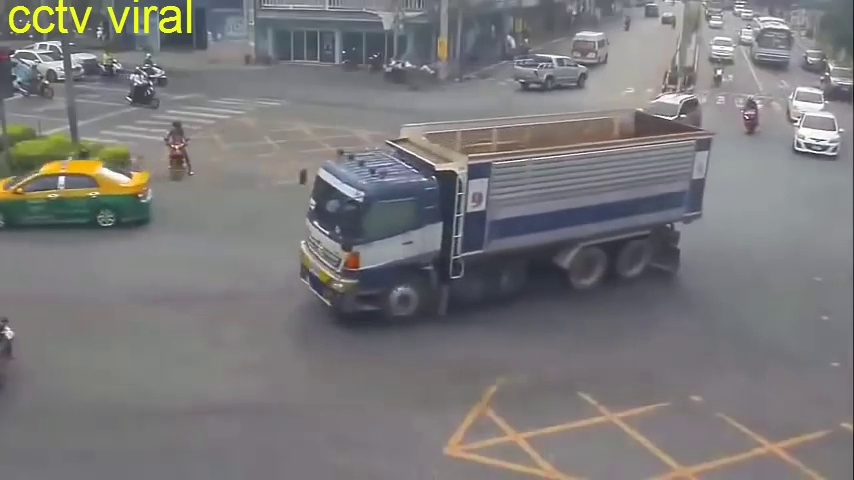car: (309, 110, 699, 317), (2, 161, 151, 229), (514, 53, 591, 93), (641, 93, 702, 141), (16, 47, 82, 81), (750, 18, 791, 70), (795, 114, 840, 161), (790, 86, 825, 127), (573, 31, 610, 68), (824, 62, 854, 102), (710, 36, 734, 68), (804, 50, 825, 73)
motorbike: (127, 66, 161, 111), (166, 120, 189, 184), (19, 66, 52, 100), (139, 54, 168, 88), (96, 53, 125, 79), (741, 95, 760, 133)
